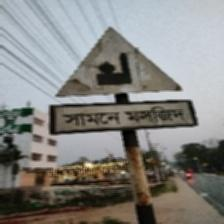Mosque in front: (53, 25, 191, 134)
